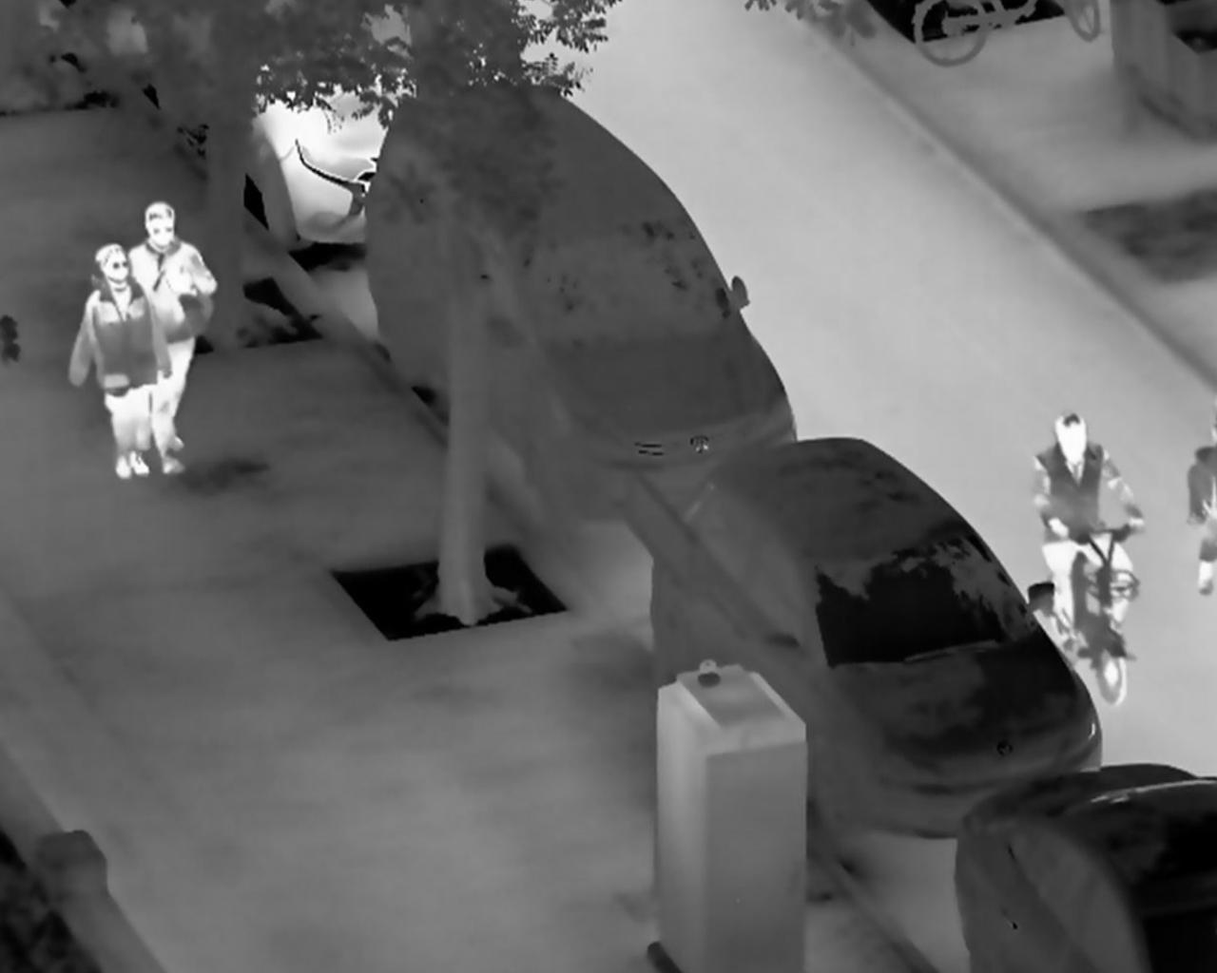person: (1028, 412, 1146, 662), (68, 241, 169, 485), (131, 200, 218, 476)
